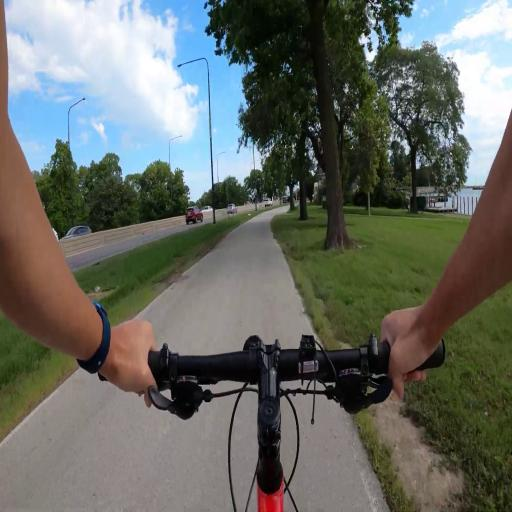Street_Light: (176, 49, 219, 235), (67, 89, 88, 170), (166, 131, 186, 180), (242, 140, 258, 186), (214, 146, 228, 198)
